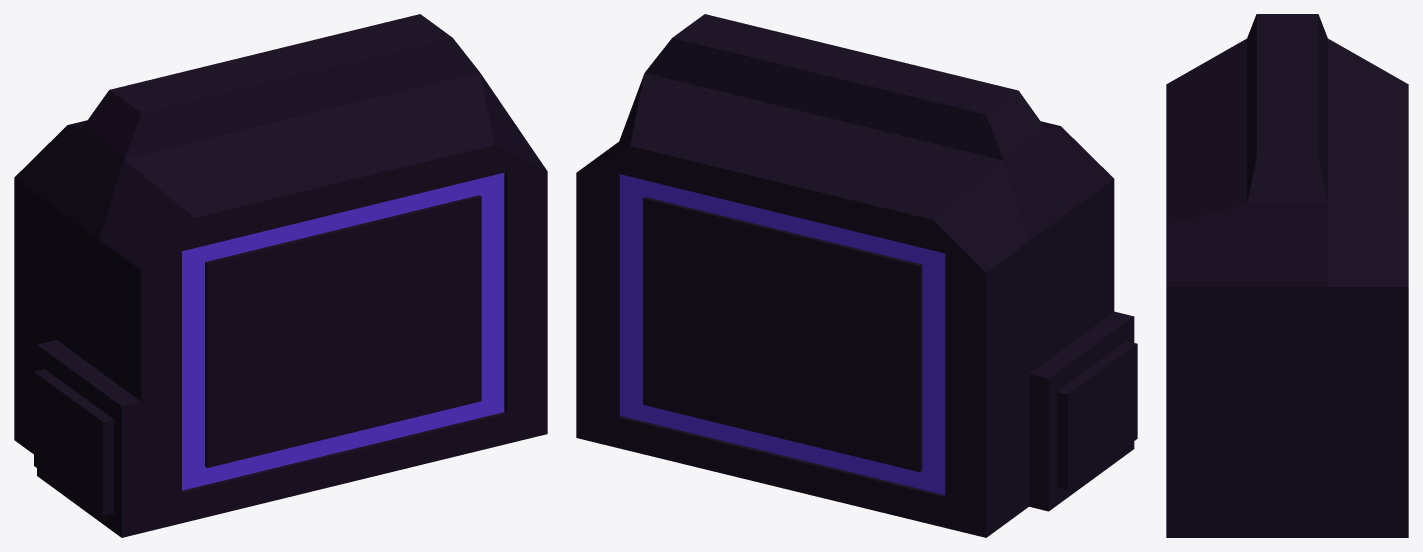
The model's file is Theftable_RecoveredBatteryBox.fbx.
3 renders of one model, left to right at view 1: azimuth 30°, elevation 25°; view 2: azimuth 150°, elevation 25°; view 3: azimuth 270°, elevation 25°, orthographic. The views are drawn at different scales.
Visible parts, largest first — view 1: Cube.228; view 2: Cube.228; view 3: Cube.228.
Part boxes in pixels (x1,y1,x2,y2): Cube.228: (14,14,547,537); Cube.228: (576,14,1137,537); Cube.228: (1166,14,1408,537).
Bounding box in the file's own units: 25.56 × 20.88 × 12.87.
